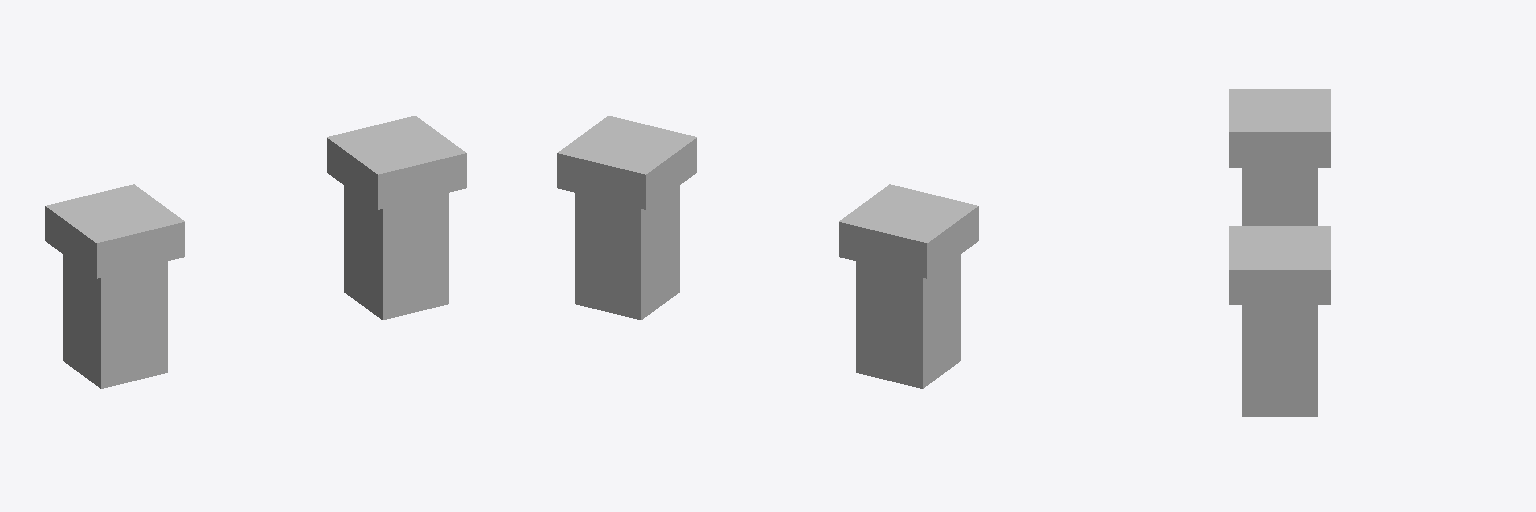
File: chemplant_piston.obj
3 views of the same model, side by side, from view 1: azimuth 30°, elevation 25°; view 2: azimuth 150°, elevation 25°; view 3: azimuth 270°, elevation 25° (orthographic).
Parts seen in each view (by area): view 1: Cube.001_Cube.002; view 2: Cube.001_Cube.002; view 3: Cube.001_Cube.002.
Part boxes in pixels (bbox=[...]): Cube.001_Cube.002: bbox=[45, 116, 466, 388]; Cube.001_Cube.002: bbox=[557, 116, 978, 388]; Cube.001_Cube.002: bbox=[1229, 89, 1330, 416].
Bounding box in the file's own units: 1.65 × 0.65 × 0.395.